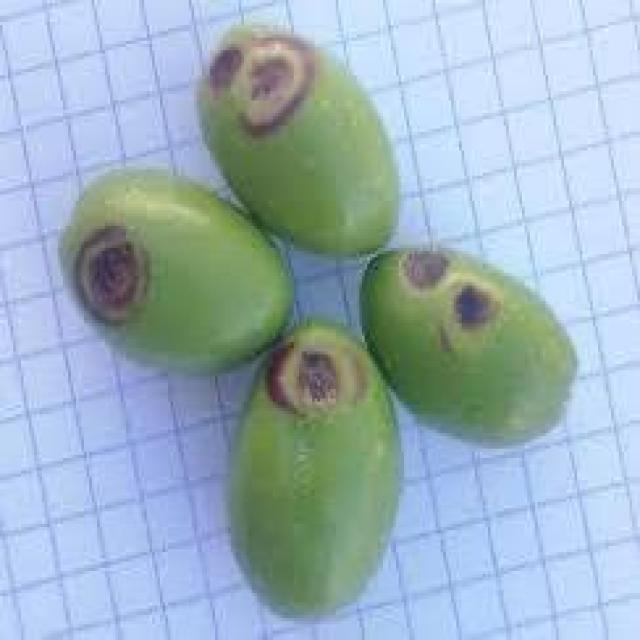Olive Fruit Fly: (228, 317, 399, 612), (60, 169, 291, 370), (197, 25, 396, 251), (365, 248, 574, 442)
